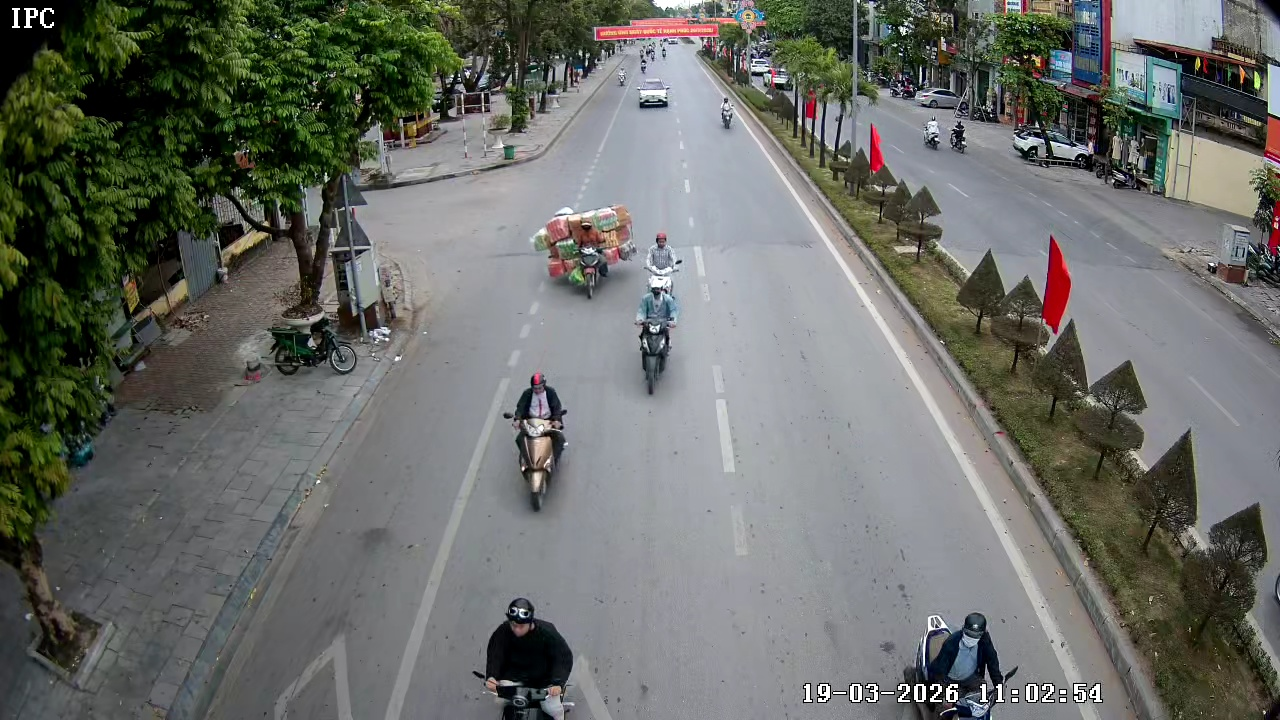car: (635, 76, 679, 113)
exception: (891, 590, 1043, 717), (473, 596, 576, 719)
motorbike: (501, 372, 571, 512), (538, 205, 635, 298), (627, 279, 684, 395), (264, 314, 366, 377), (642, 223, 689, 290), (714, 93, 740, 129), (614, 63, 630, 87), (638, 57, 652, 74)
